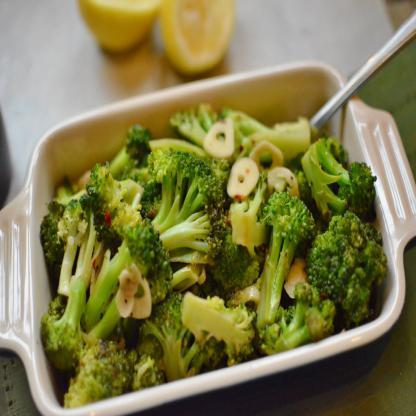broccoli: (33, 96, 390, 416)
